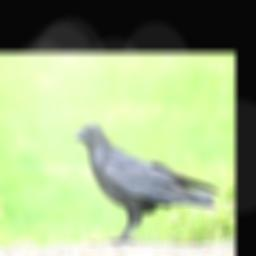Crow: (73, 122, 221, 244)
